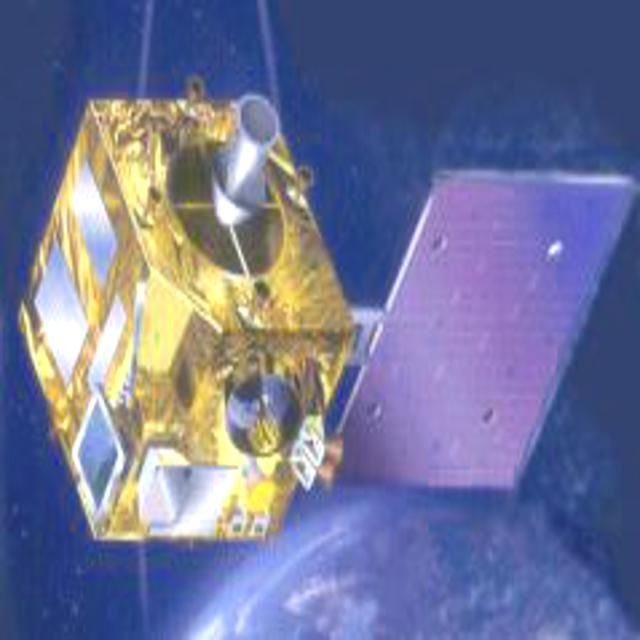medium_debris: (18, 78, 640, 558)
